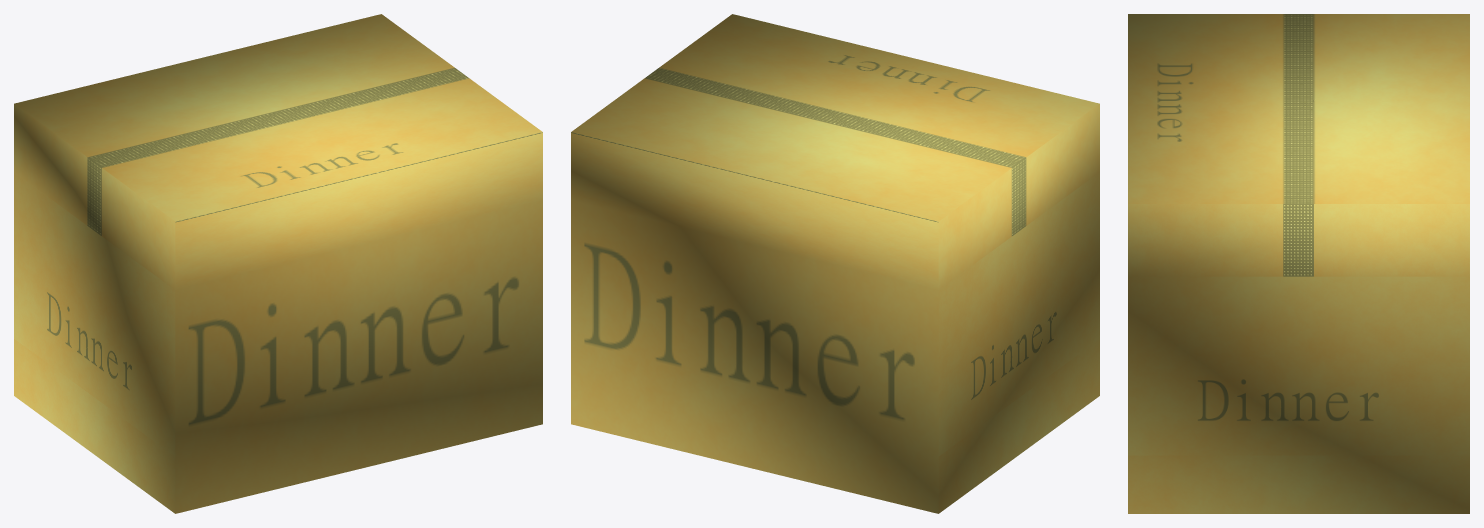
File: danboru.fbx
3 renders of one model, left to right at view 1: azimuth 30°, elevation 25°; view 2: azimuth 150°, elevation 25°; view 3: azimuth 270°, elevation 25°, orthographic. The views are drawn at different scales.
Visible parts, largest first — view 1: obj1; view 2: obj1; view 3: obj1.
Boxes of the visible parts, x1,y1,x2,y2 form: obj1: [14, 14, 542, 513]; obj1: [571, 14, 1099, 513]; obj1: [1128, 14, 1469, 513].
Bounding box in the file's own units: 263 × 200 × 200.
Materials: 1 (1 with a texture image).
